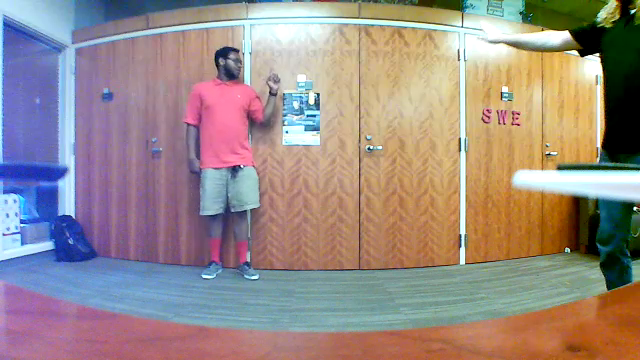up: (264, 63, 282, 96)
